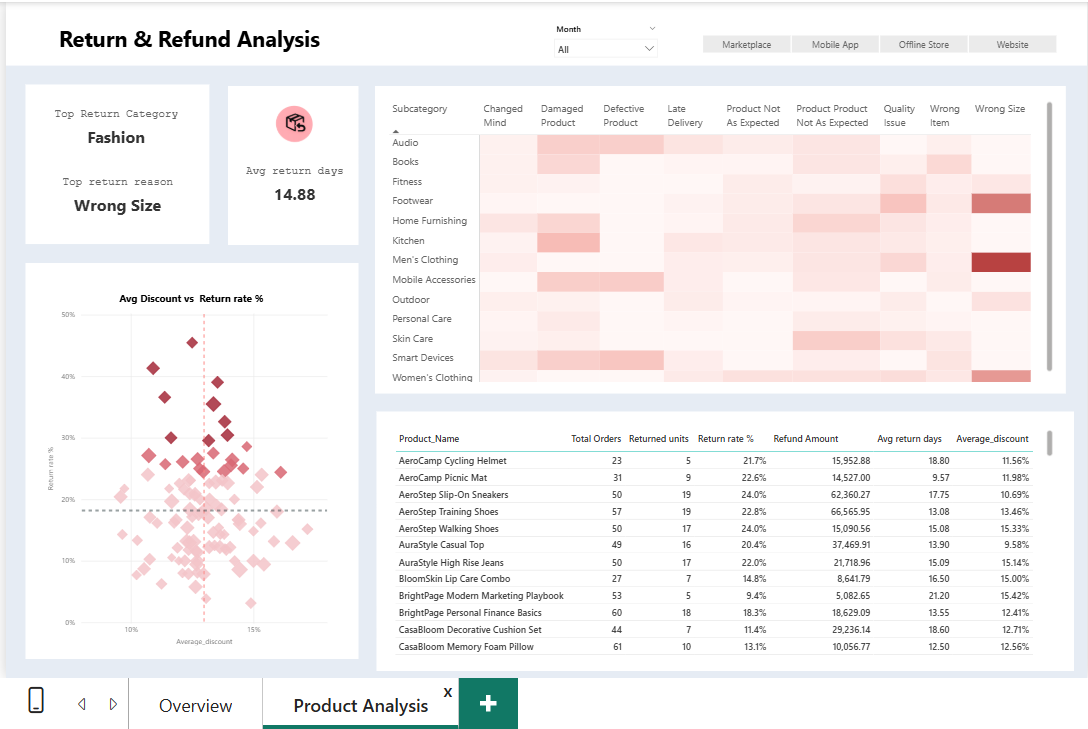

This screenshot's page, from the dashboard's own definition file:
{"tool":"powerbi","page":{"name":"Product Analysis","canvas":[1600,1000],"ordinal":1},"visuals":[{"type":"shape","box":[0,0,1599.9,83],"z":0},{"type":"shape","box":[0.1,10,1599.9,83],"z":1000},{"type":"shape","box":[28,122,272,236],"z":2000},{"type":"shape","box":[545.9,124.3,1022,455],"z":3000},{"type":"shape","box":[328.4,124.3,193.1,235.2],"z":4000},{"type":"shape","box":[28.8,386.1,492.6,585.8],"z":5000},{"type":"textbox","box":[73.2,26.6,548.1,255.2],"z":6000},{"type":"cardVisual","fields":{"Data":["2 Page Measures.Avg return days"]},"box":[330.6,224.1,193.1,82.1],"z":7000},{"type":"shape","box":[548.1,605.8,1031.8,383.9],"z":8000},{"type":"slicer","fields":{"Values":["Dim_Channel.Sales_Channel"]},"box":[1005.2,42.2,572.5,39.9],"z":9000},{"type":"image","box":[346.2,110.9,159.8,144.2],"z":10000},{"type":"slicer","fields":{"Values":["Dim_Date.Month Short"]},"box":[801.1,26.6,173.1,55.5],"z":11000},{"type":"cardVisual","fields":{"Data":["2 Page Measures.Top Return Category"]},"box":[39.9,139.8,246.3,84.3],"z":14000},{"type":"cardVisual","fields":{"Data":["2 Page Measures.Top return reason"]},"box":[42.2,239.7,246.3,84.3],"z":15000},{"type":"pivotTable","fields":{"Rows":["Dim_Products.Subcategory"],"Columns":["Dim_ReturnReasons.Return_Reason"],"Values":["1 Page Measures.Returned units"]},"box":[561.4,142,991.9,423.8],"z":16000},{"type":"scatterChart","title":"Avg Discount vs  Return rate %","fields":{"X":["2 Page Measures.Average_discount"],"Y":["1 Page Measures.Return rate %"],"Size":["1 Page Measures.Total Orders"],"Category":["Dim_Products.Product_Name"]},"box":[42.2,408.3,463.8,548.1],"z":17000},{"type":"tableEx","fields":{"Values":["Dim_Products.Product_Name","1 Page Measures.Total Orders","1 Page Measures.Returned units","1 Page Measures.Return rate %","1 Page Measures.Refund Amount","2 Page Measures.Avg return days","2 Page Measures.Average_discount"]},"box":[570.3,628,983,343.9],"z":18000}]}

Visuals, with their boxes on the page's 1600x1000 design canvas (x1, y1, x2, y2). These are canvas units, not pixel positions in the 1088x729 screenshot, which may show the page scaled, cropped or inside an application window:
shape: left=0, top=0, right=1600, bottom=83
shape: left=0, top=10, right=1600, bottom=93
shape: left=28, top=122, right=300, bottom=358
shape: left=546, top=124, right=1568, bottom=579
shape: left=328, top=124, right=522, bottom=360
shape: left=29, top=386, right=521, bottom=972
textbox: left=73, top=27, right=621, bottom=282
cardVisual - 2 Page Measures.Avg return days: left=331, top=224, right=524, bottom=306
shape: left=548, top=606, right=1580, bottom=990
slicer - Dim_Channel.Sales_Channel: left=1005, top=42, right=1578, bottom=82
image: left=346, top=111, right=506, bottom=255
slicer - Dim_Date.Month Short: left=801, top=27, right=974, bottom=82
cardVisual - 2 Page Measures.Top Return Category: left=40, top=140, right=286, bottom=224
cardVisual - 2 Page Measures.Top return reason: left=42, top=240, right=288, bottom=324
pivotTable - Dim_Products.Subcategory x Dim_ReturnReasons.Return_Reason: left=561, top=142, right=1553, bottom=566
"Avg Discount vs  Return rate %" scatterChart: left=42, top=408, right=506, bottom=956
tableEx - Dim_Products.Product_Name x 1 Page Measures.Total Orders: left=570, top=628, right=1553, bottom=972
